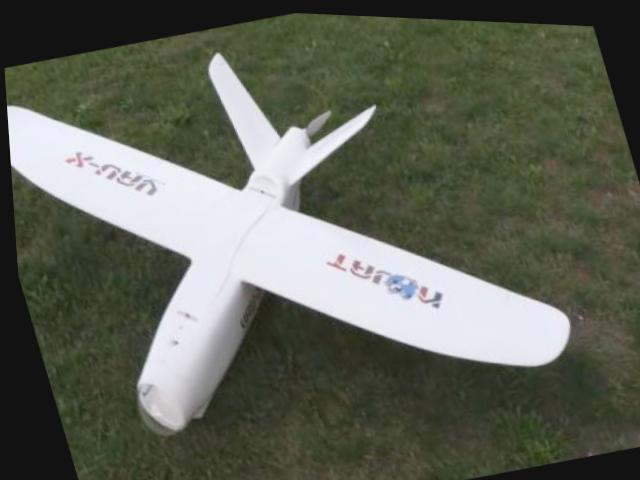uav: (0, 0, 581, 473)
